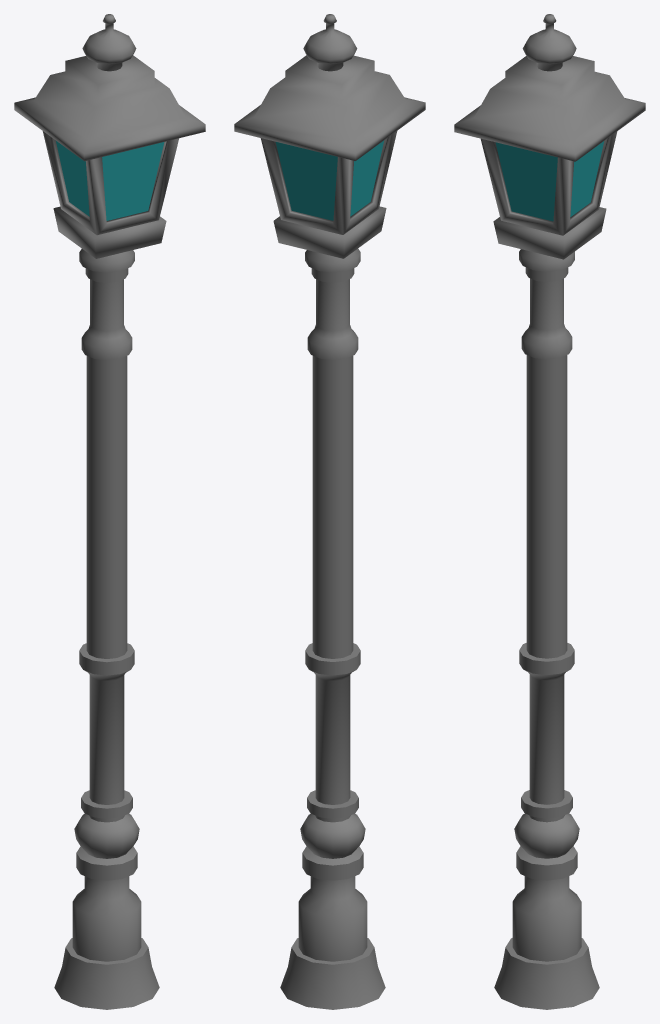
File: SM_steetlamp_01.fbx
3 renders of one model, left to right at view 1: azimuth 30°, elevation 25°; view 2: azimuth 150°, elevation 25°; view 3: azimuth 330°, elevation 25°, orthographic.
Visible parts, largest first — view 1: Cylinder029; view 2: Cylinder029; view 3: Cylinder029.
Part boxes in pixels (bbox=[...]): Cylinder029: bbox=[14, 14, 205, 1009]; Cylinder029: bbox=[234, 14, 425, 1009]; Cylinder029: bbox=[454, 14, 645, 1009].
Bounding box in the file's own units: 15 × 115 × 15.
